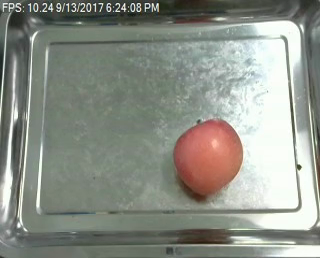Apple: (171, 115, 243, 198)
